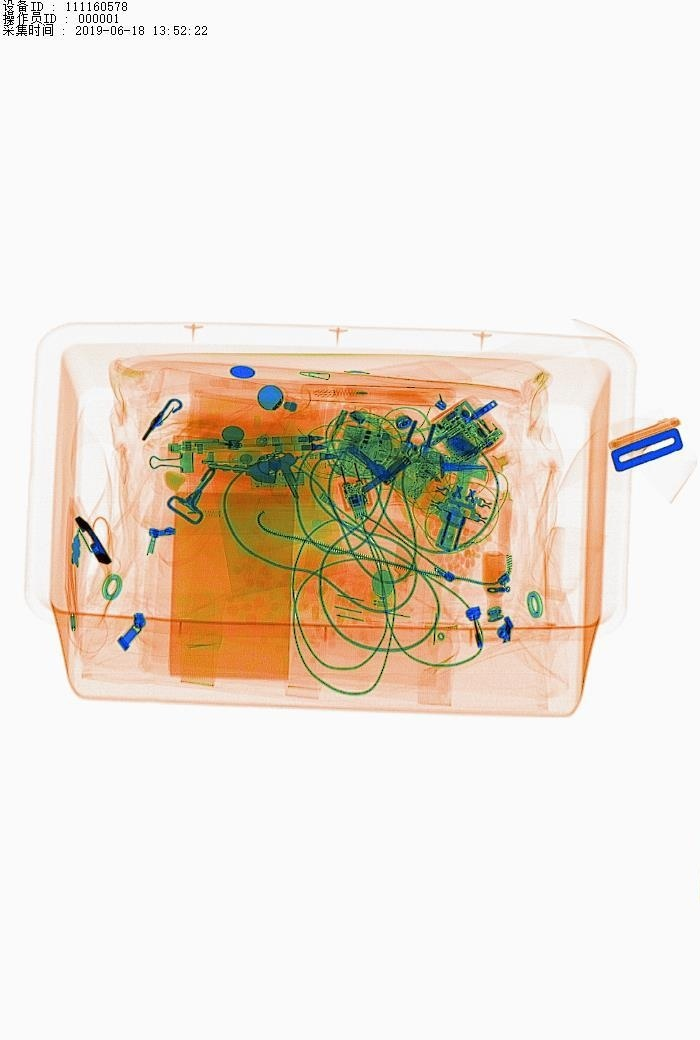NonmetallicFire: (165, 421, 260, 460)
